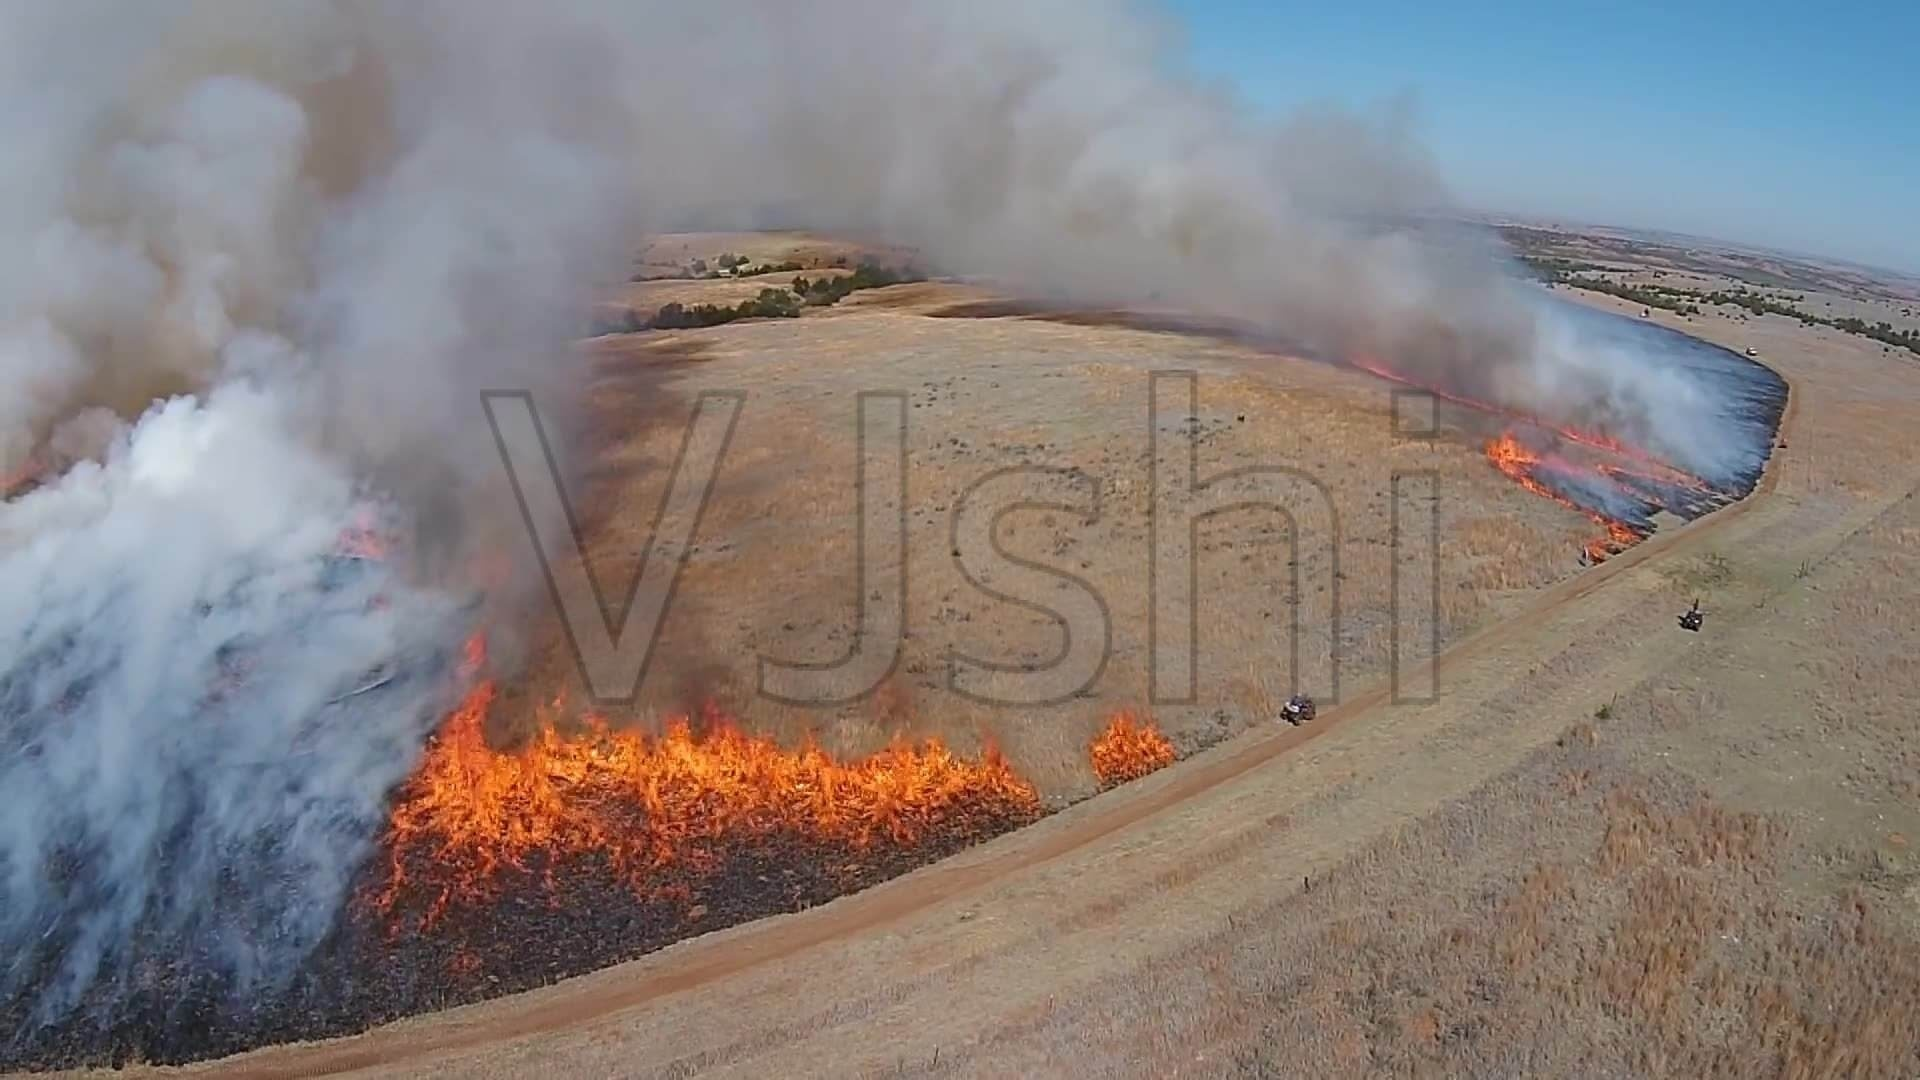fire: (367, 615, 1019, 939), (1472, 405, 1664, 553), (1083, 705, 1174, 781)
